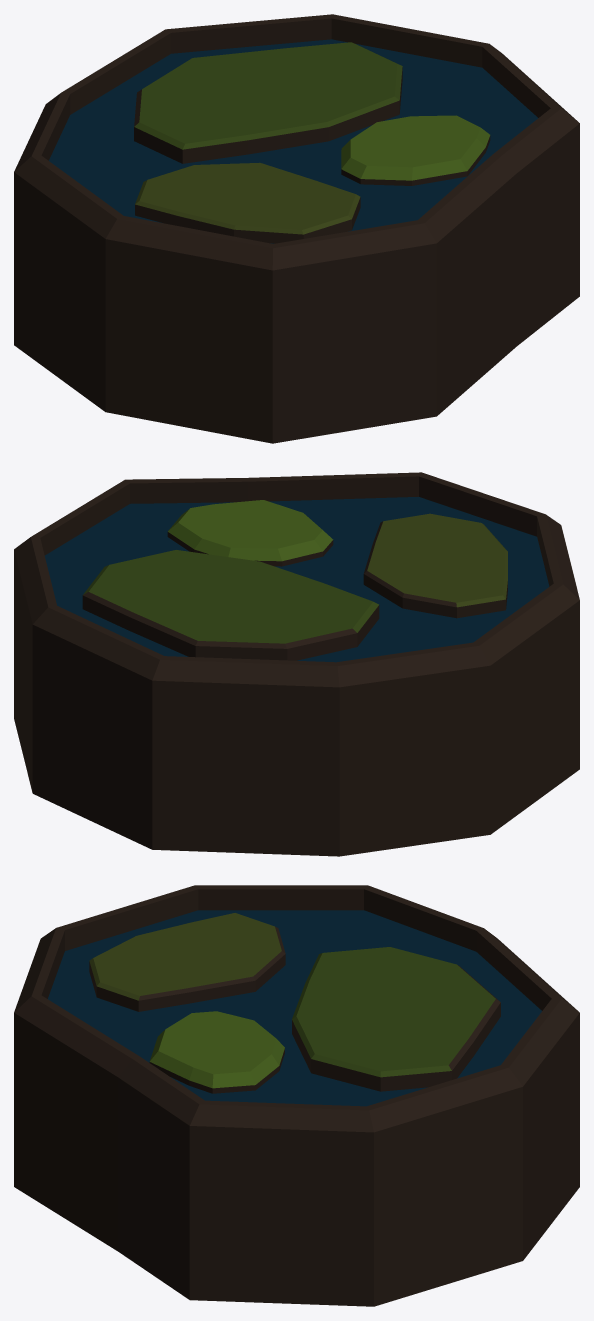
File: Bog.fbx
The picture shows the model from 3 angles, top to bottom: view 1: azimuth 30°, elevation 25°; view 2: azimuth 150°, elevation 25°; view 3: azimuth 270°, elevation 25°; orthographic projection. The views are drawn at different scales.
Parts seen in each view (by area): view 1: Bog; view 2: Bog; view 3: Bog.
Boxes of the visible parts, x1,y1,x2,y2 form: Bog: (14,14,579,443); Bog: (14,472,579,856); Bog: (14,885,579,1306).
Bounding box in the file's own units: 544 × 203 × 543.
